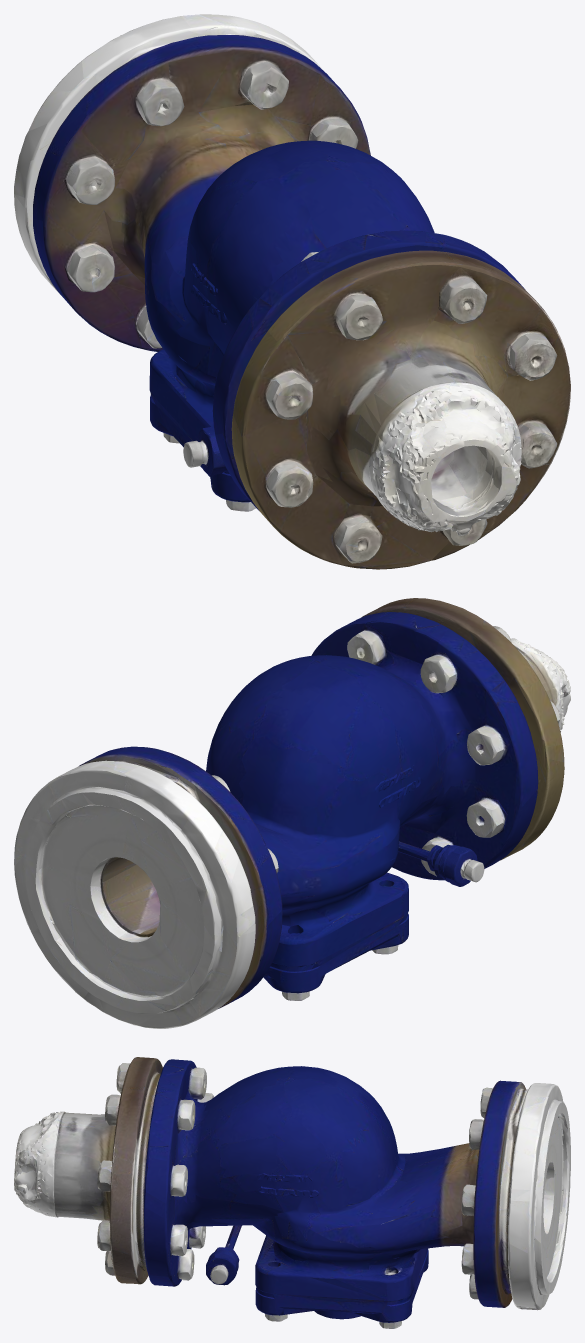
3 renders of one model, top to bottom at view 1: azimuth 30°, elevation 25°; view 2: azimuth 150°, elevation 25°; view 3: azimuth 270°, elevation 25°, orthographic. The views are drawn at different scales.
Parts seen in each view (by area): view 1: 0; view 2: 0; view 3: 0.
Boxes of the visible parts, x1=… form: 0: x1=14, y1=14, x2=570, y2=569; 0: x1=14, y1=598, x2=570, y2=1028; 0: x1=14, y1=1057, x2=570, y2=1328.
Bounding box in the file's own units: 0.25 × 0.2122 × 0.4672.
Materials: 1 (1 with a texture image).
